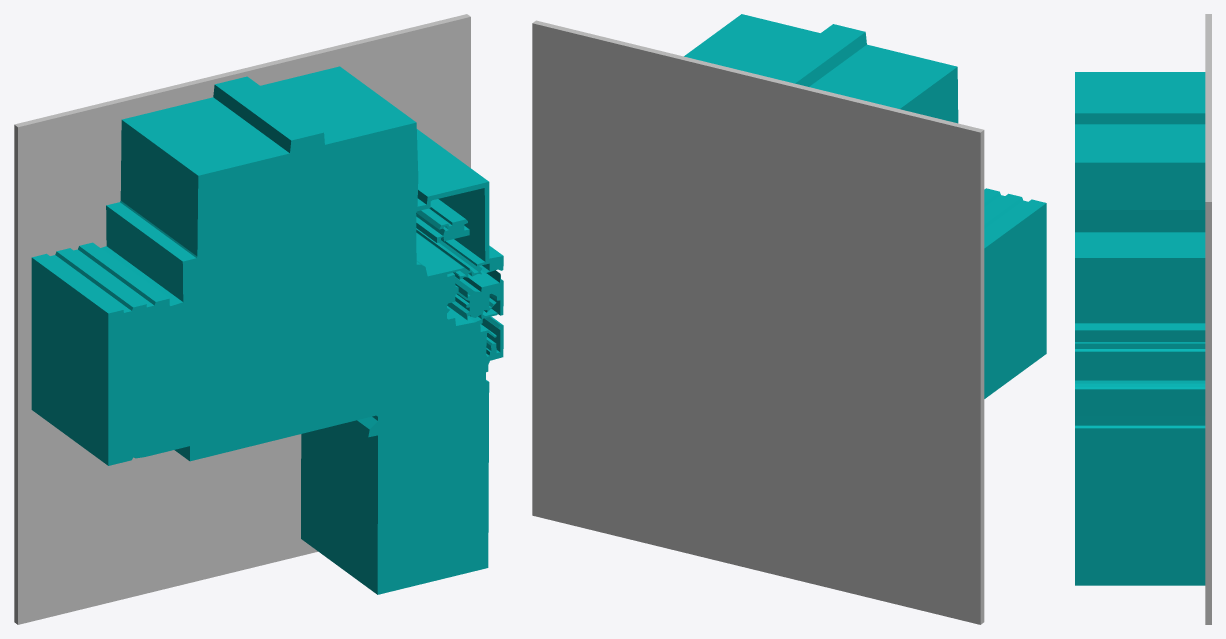
3 views of the same model, side by side, from view 1: azimuth 30°, elevation 25°; view 2: azimuth 150°, elevation 25°; view 3: azimuth 270°, elevation 25° (orthographic). The views are drawn at different scales.
Visible parts, largest first — view 1: world; view 2: world; view 3: world.
Part boxes in pixels (x1,y1,x2,y2): world: (14, 14, 503, 624); world: (532, 14, 1046, 624); world: (1075, 14, 1211, 624).
Bounding box in the file's own units: 10.23 × 10.74 × 3.15.
